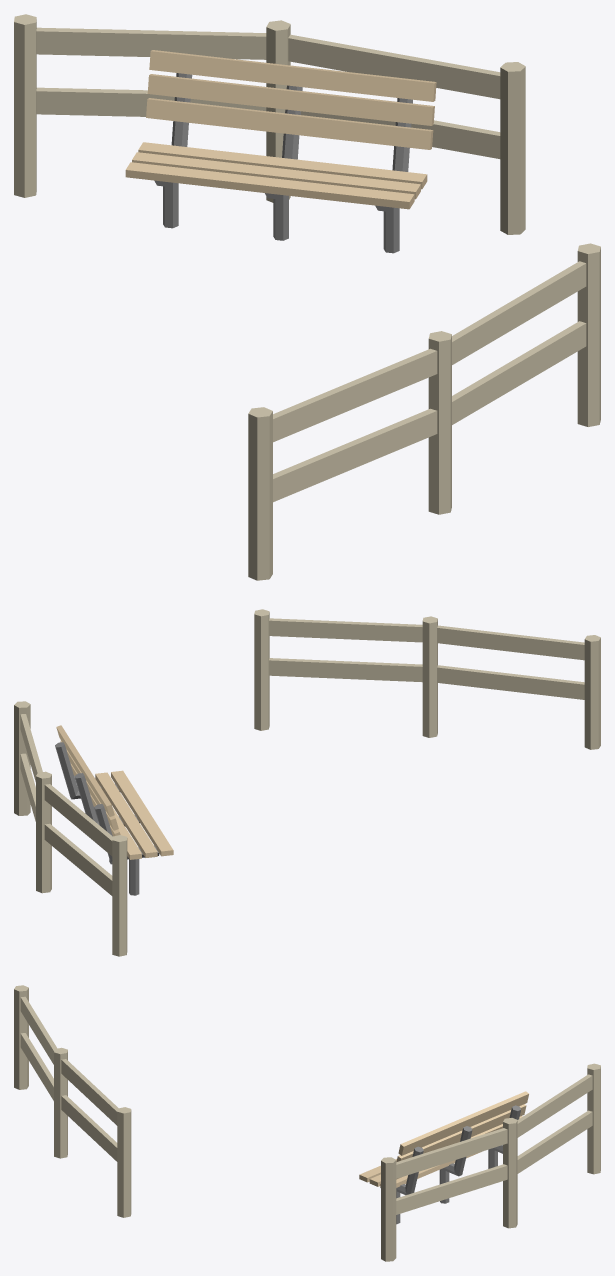
File: BenchFence.dae
3 renders of one model, top to bottom at view 1: azimuth 30°, elevation 25°; view 2: azimuth 150°, elevation 25°; view 3: azimuth 270°, elevation 25°, orthographic. The views are drawn at different scales.
Parts seen in each view (by area): view 1: BenchFence; view 2: BenchFence; view 3: BenchFence.
Boxes of the visible parts, x1=… form: BenchFence: x1=14, y1=14, x2=600, y2=580; BenchFence: x1=14, y1=609, x2=600, y2=956; BenchFence: x1=14, y1=985, x2=600, y2=1261.
Bounding box in the file's own units: 13.97 × 20.38 × 4.3.
